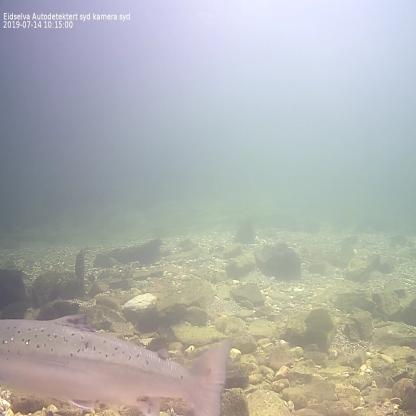salmon: (0, 311, 236, 415)
